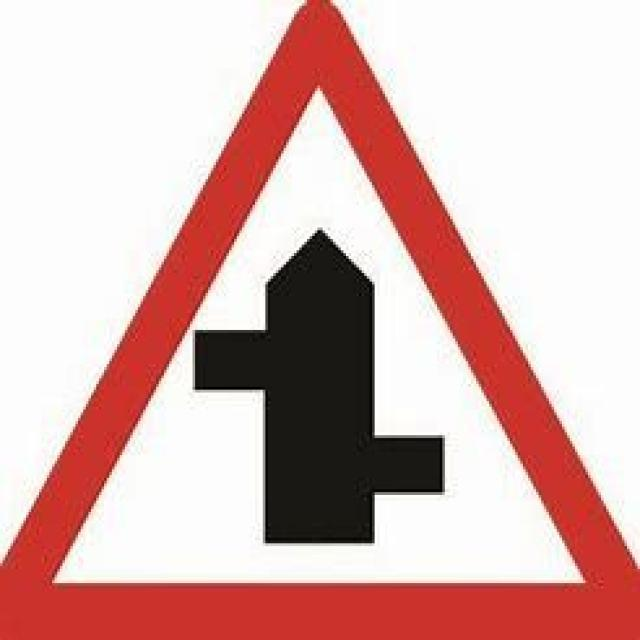staggered intersection: (19, 18, 624, 621)
